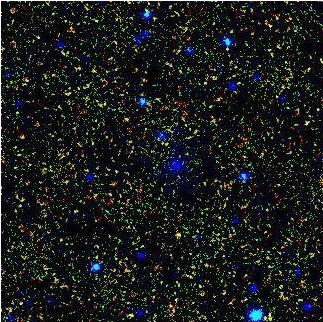star: (161, 217, 191, 247)
